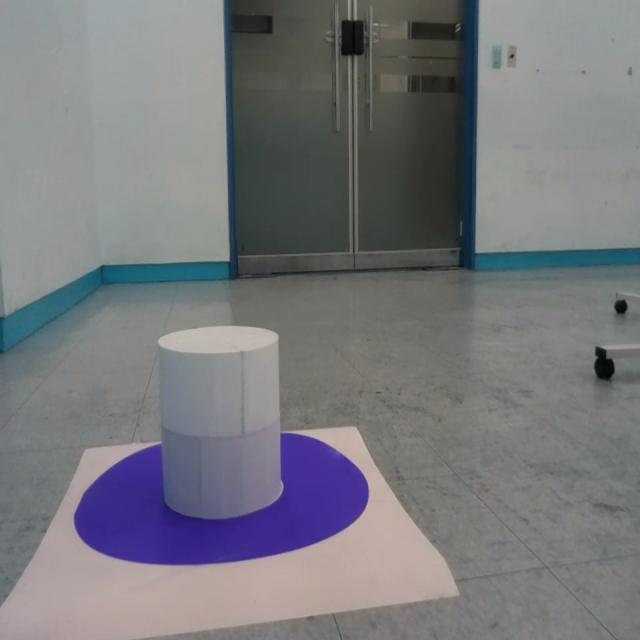cylinder: (155, 325, 283, 520)
